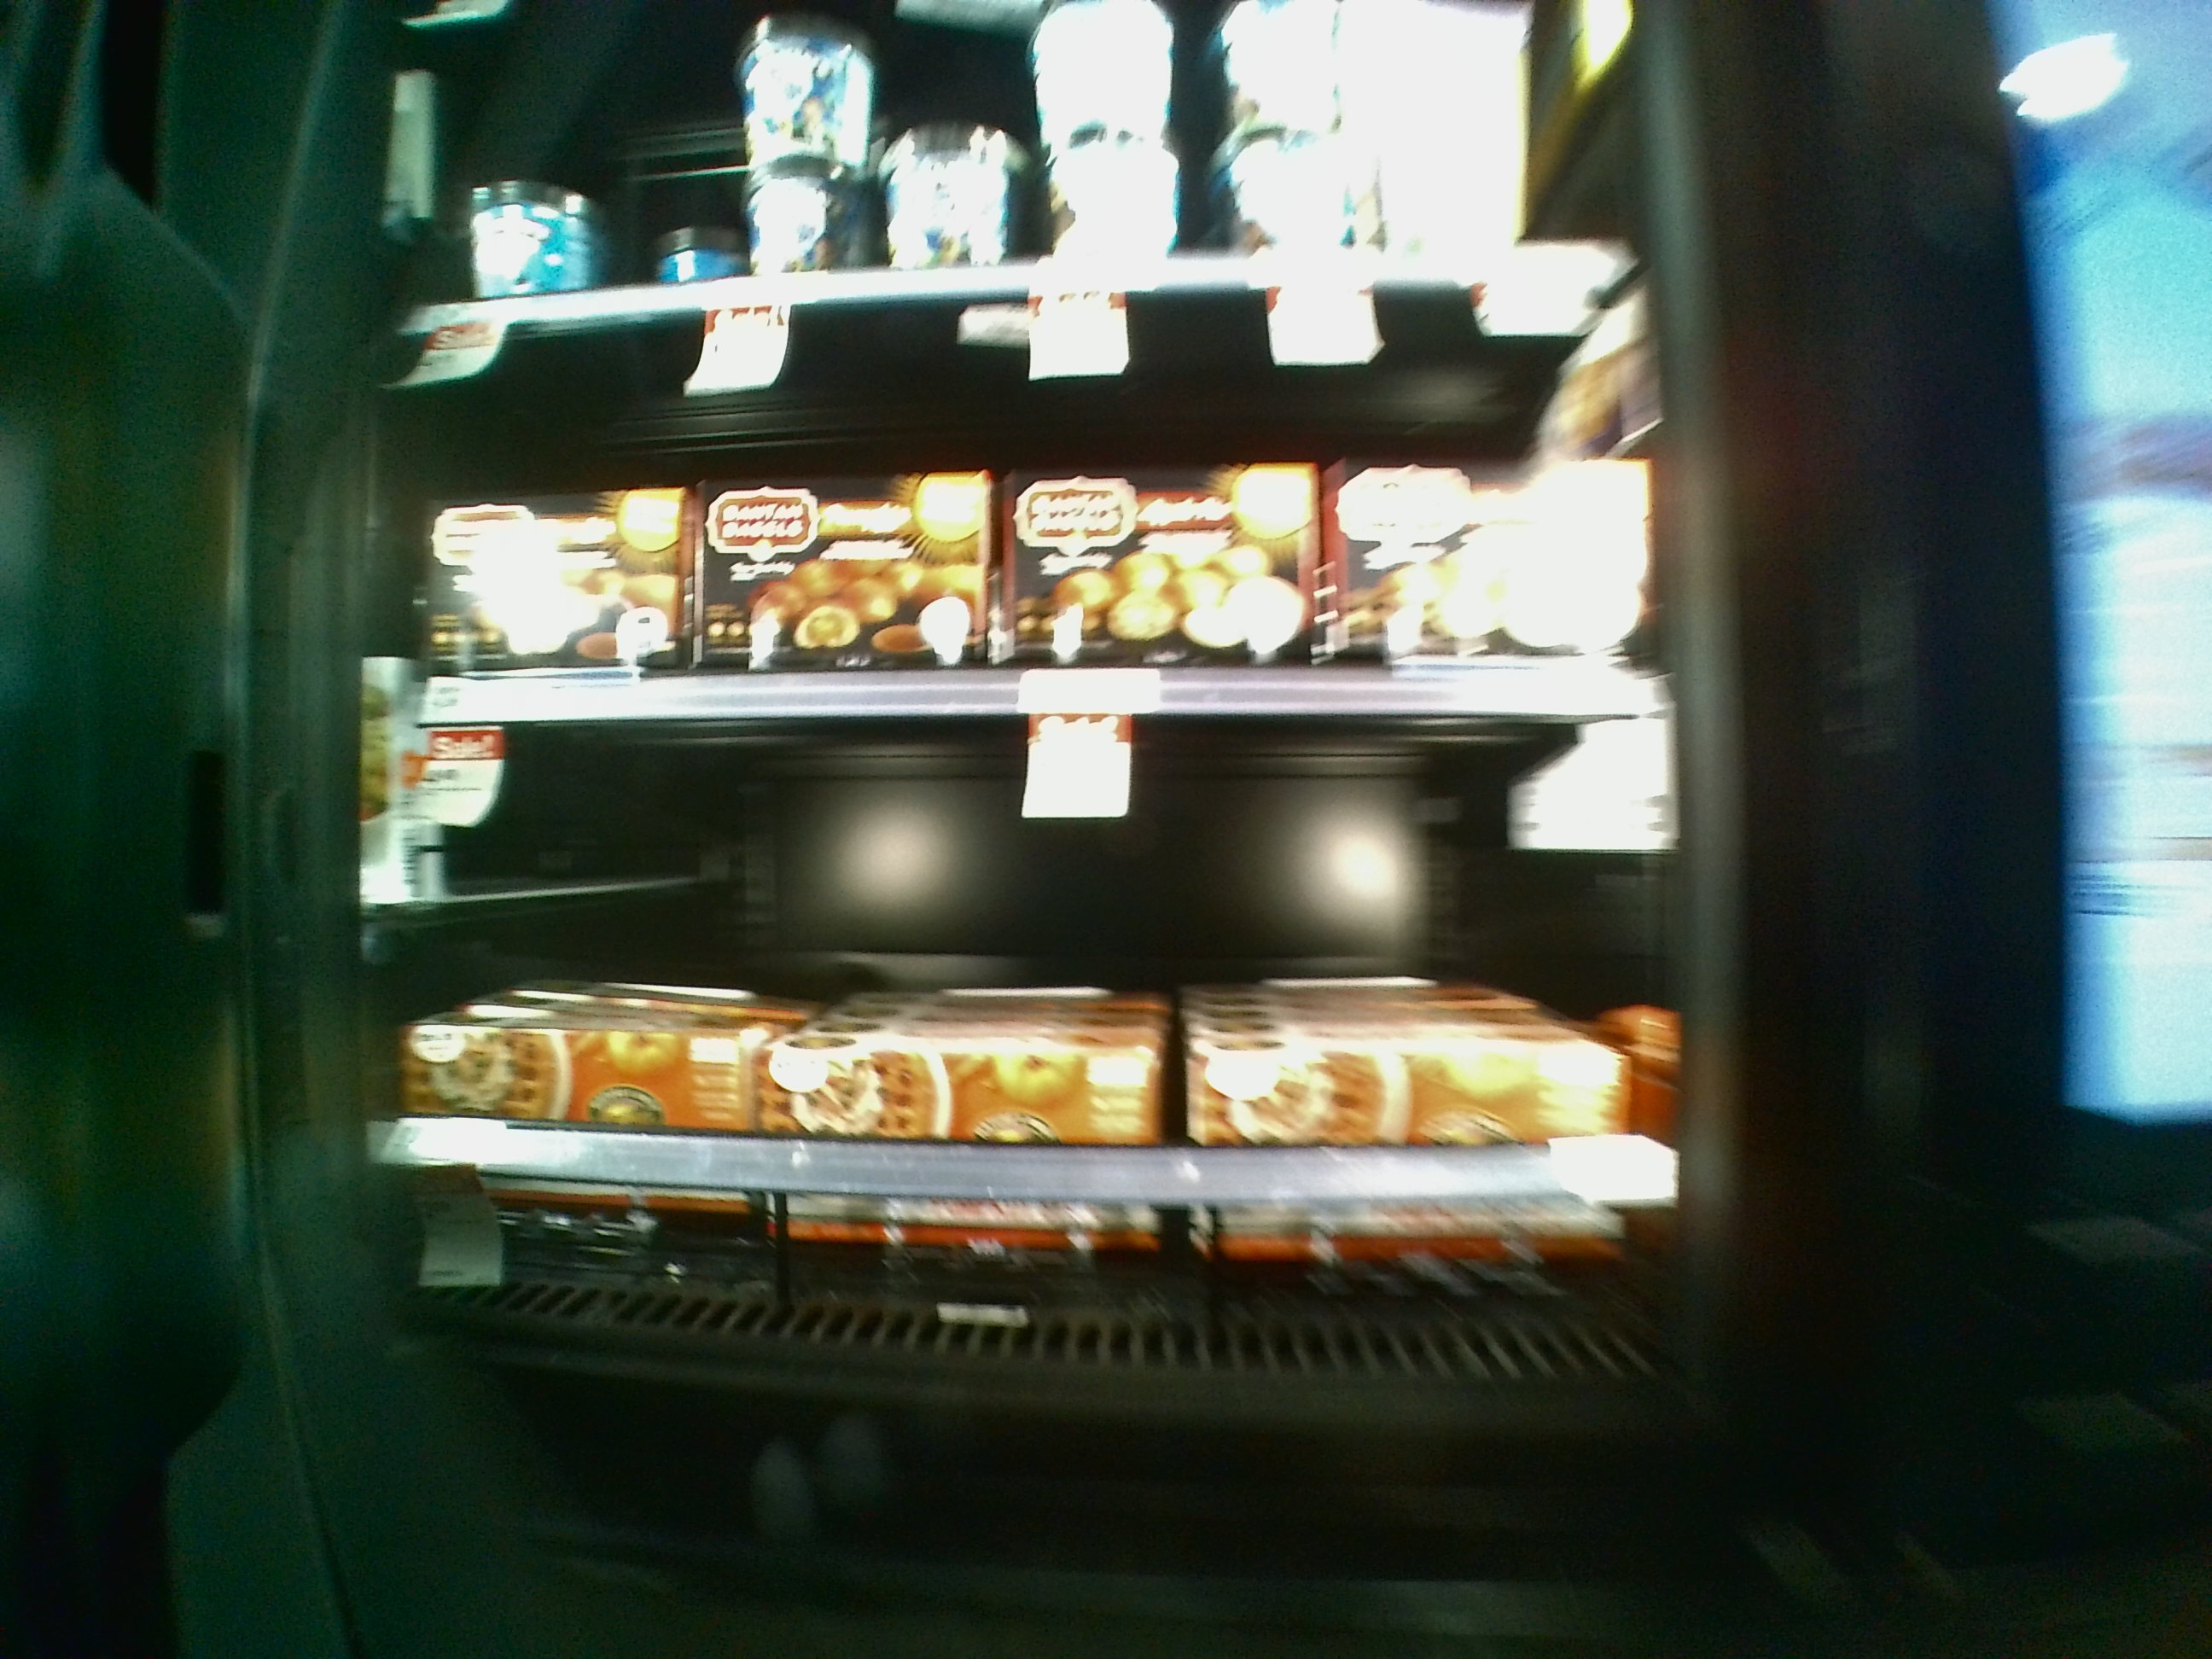shelf: (387, 701, 1702, 1389), (399, 308, 1672, 704)
